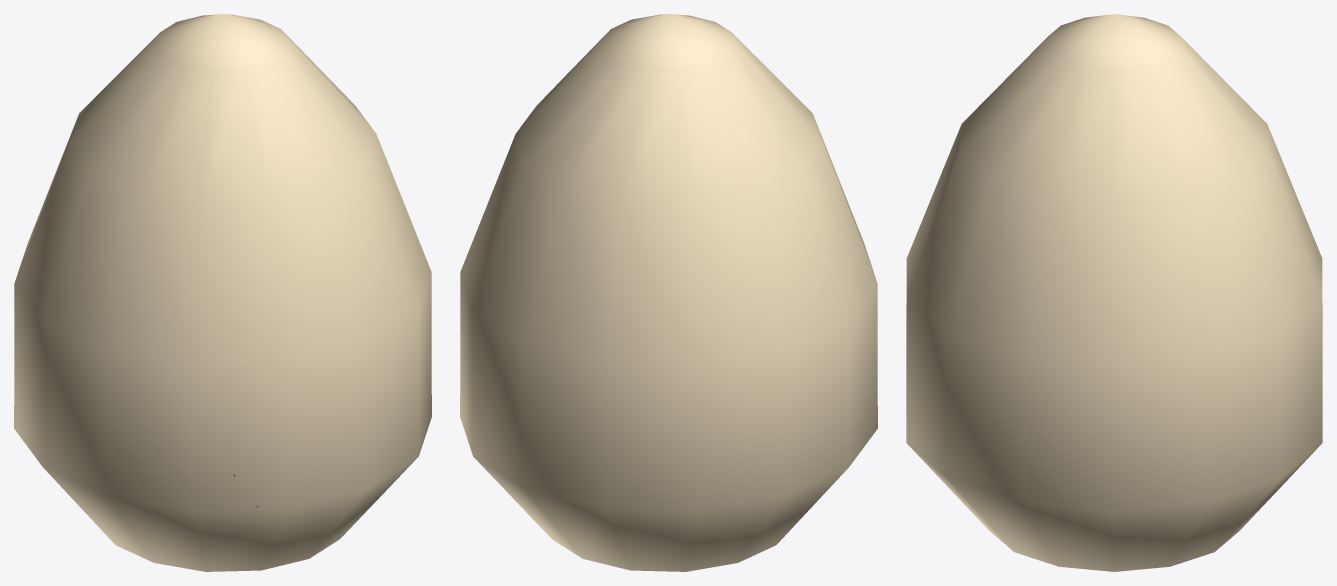
File: egg.fbx
3 renders of one model, left to right at view 1: azimuth 30°, elevation 25°; view 2: azimuth 150°, elevation 25°; view 3: azimuth 270°, elevation 25°, orthographic.
Parts seen in each view (by area): view 1: egg; view 2: egg; view 3: egg.
Part boxes in pixels (x1,y1,x2,y2): egg: (14, 14, 431, 571); egg: (460, 14, 877, 571); egg: (906, 14, 1322, 571).
Bounding box in the file's own units: 15.31 × 21.47 × 15.29.
1 material, 1 textured.
